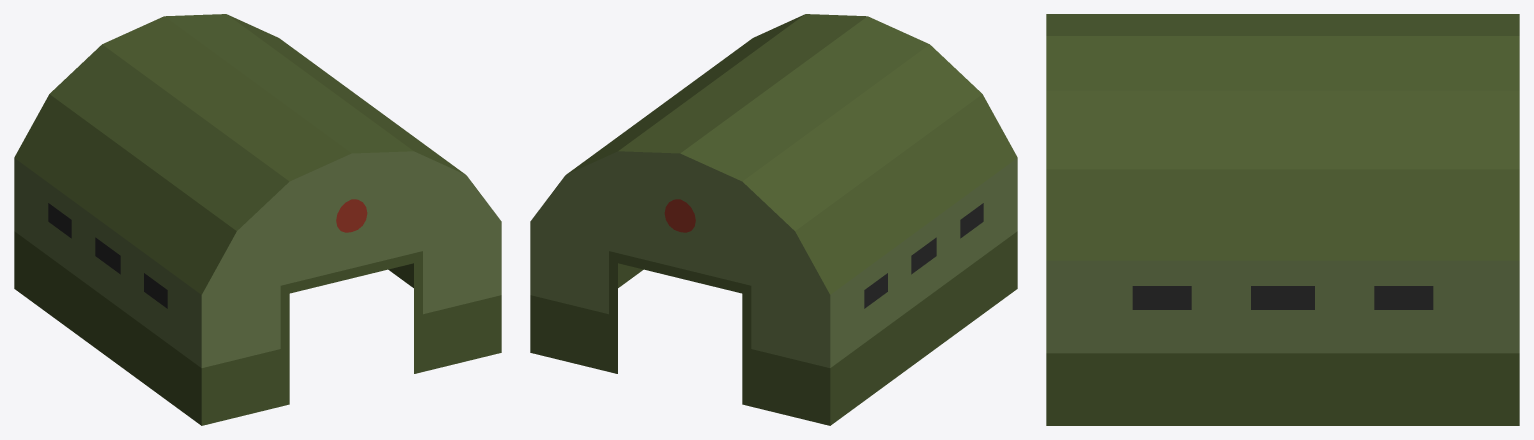
The model's file is m_hanger.glb.
The picture shows the model from 3 angles, left to right: view 1: azimuth 30°, elevation 25°; view 2: azimuth 150°, elevation 25°; view 3: azimuth 270°, elevation 25°; orthographic projection. The views are drawn at different scales.
Parts seen in each view (by area): view 1: m_hanger.001; view 2: m_hanger.001; view 3: m_hanger.001.
Boxes of the visible parts, left/top/right/bottom form: m_hanger.001: left=14, top=14, right=501, bottom=425; m_hanger.001: left=530, top=14, right=1017, bottom=425; m_hanger.001: left=1046, top=14, right=1519, bottom=425.
Size of the model in its own units: 2.16 by 1.62 by 2.34.
